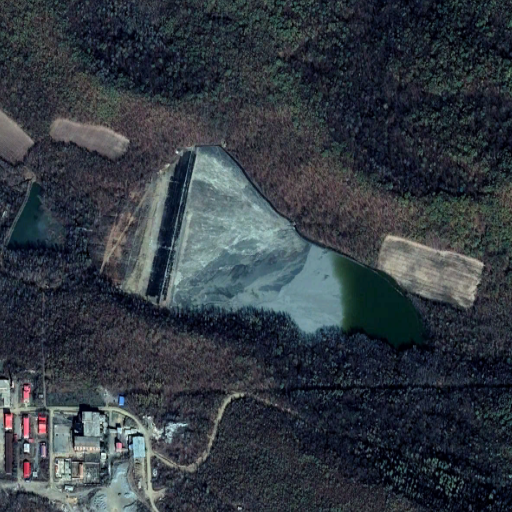tp: (91, 140, 434, 359)
